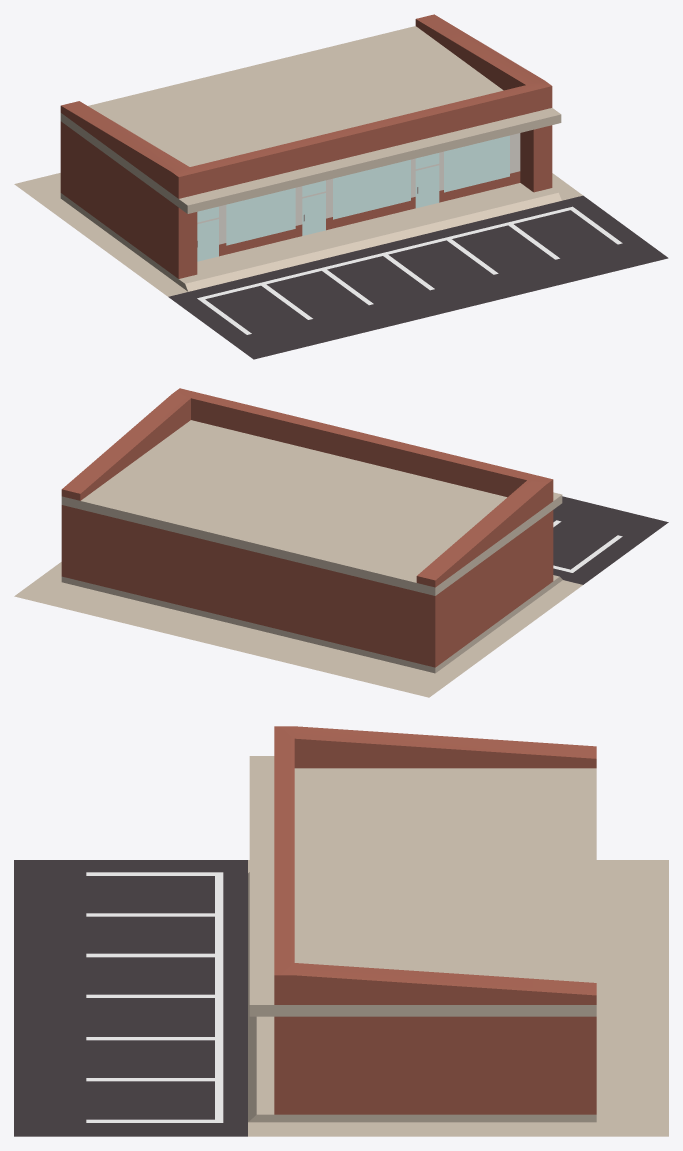
The model's file is ShopB.fbx.
3 views of the same model, one above another, from view 1: azimuth 30°, elevation 25°; view 2: azimuth 150°, elevation 25°; view 3: azimuth 270°, elevation 25° (orthographic). The views are drawn at different scales.
Parts seen in each view (by area): view 1: ShopB; view 2: ShopB; view 3: ShopB.
Part boxes in pixels (x1,y1,x2,y2): ShopB: (14, 14, 668, 359); ShopB: (14, 388, 668, 697); ShopB: (14, 726, 668, 1136).
Bounding box in the file's own units: 300 × 74.35 × 300.
